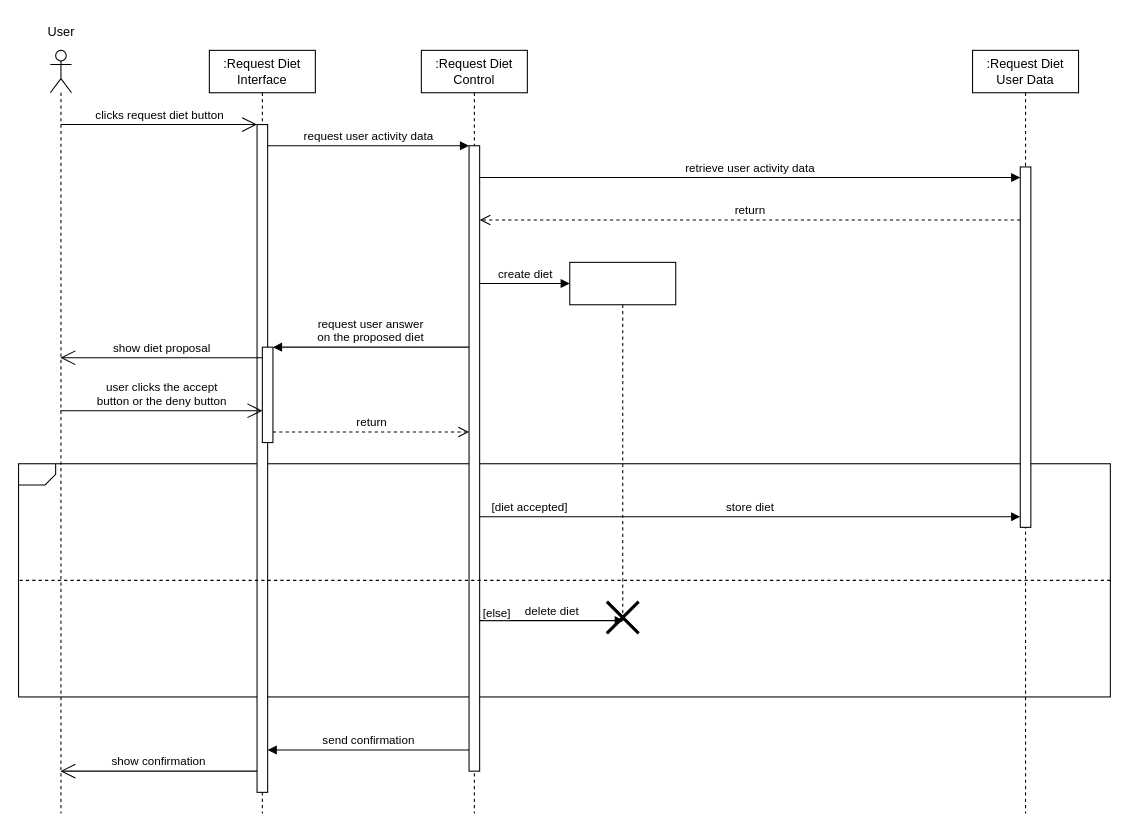
Image size: 1130x832. Some labels were removed from this diagram. Here are the shapes that lost their labels. From the top down, the box of each, then its label:
(569, 261, 676, 623): :Request Diet Diet Object
(17, 463, 1110, 697): alt
